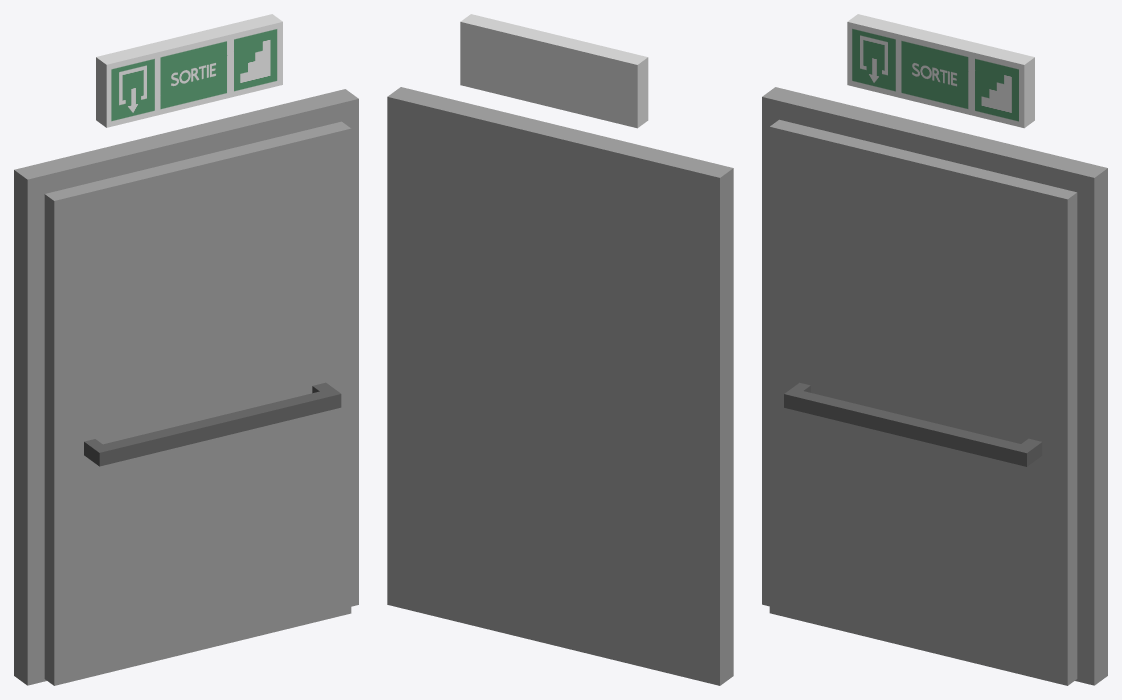
File: porte sortie urgence.fbx
3 views of the same model, side by side, from view 1: azimuth 30°, elevation 25°; view 2: azimuth 150°, elevation 25°; view 3: azimuth 330°, elevation 25° (orthographic).
Visible parts, largest first — view 1: porte_sortie_urgence; view 2: porte_sortie_urgence; view 3: porte_sortie_urgence.
Boxes of the visible parts, x1,y1,x2,y2 form: porte_sortie_urgence: (14,14,358,685); porte_sortie_urgence: (387,14,733,685); porte_sortie_urgence: (762,14,1107,685).
Size of the model in its own units: 1.55 by 2.68 by 0.3134.
4 materials, 1 textured.
